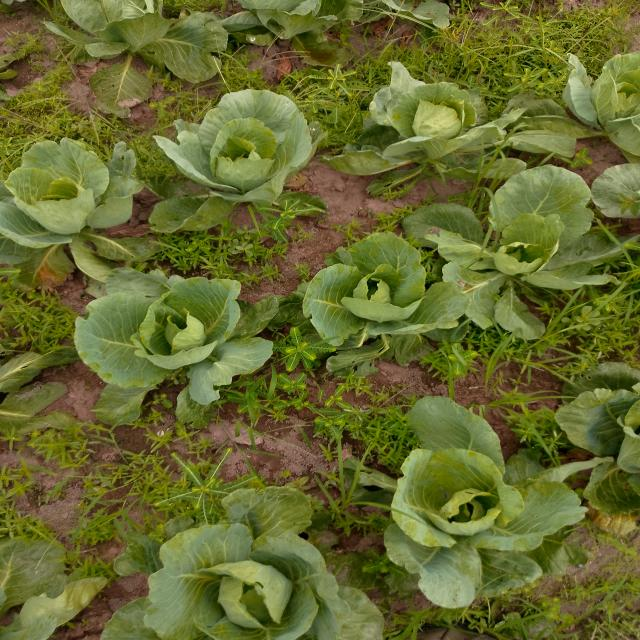Cabbage: (352, 392, 572, 607), (50, 267, 304, 423), (104, 517, 376, 640), (118, 74, 332, 222), (0, 100, 174, 274), (444, 172, 614, 346), (293, 229, 491, 368), (348, 59, 508, 203), (514, 38, 640, 171), (31, 0, 235, 73), (0, 515, 108, 640), (225, 0, 350, 48)
